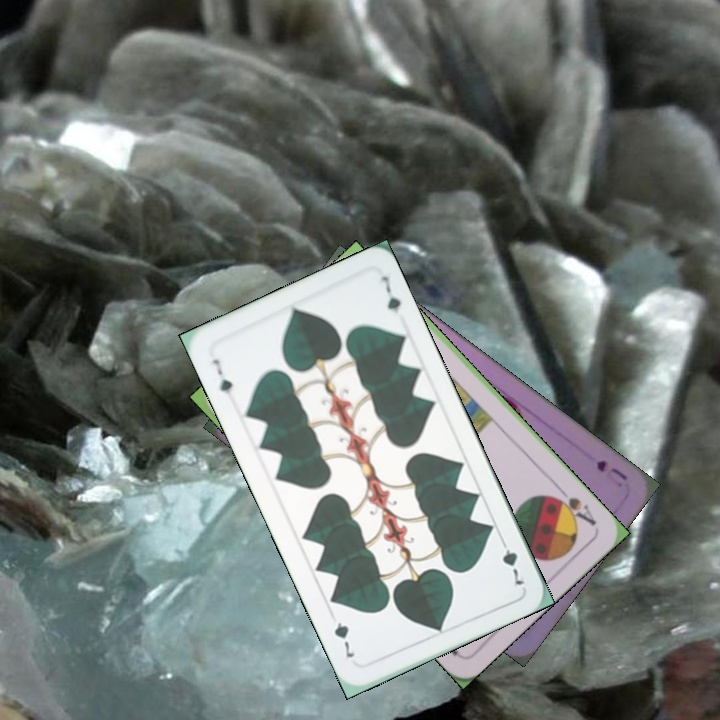G7: (496, 533, 527, 588), (208, 354, 235, 404)
SA: (548, 482, 600, 529)
SU: (591, 456, 630, 484)
